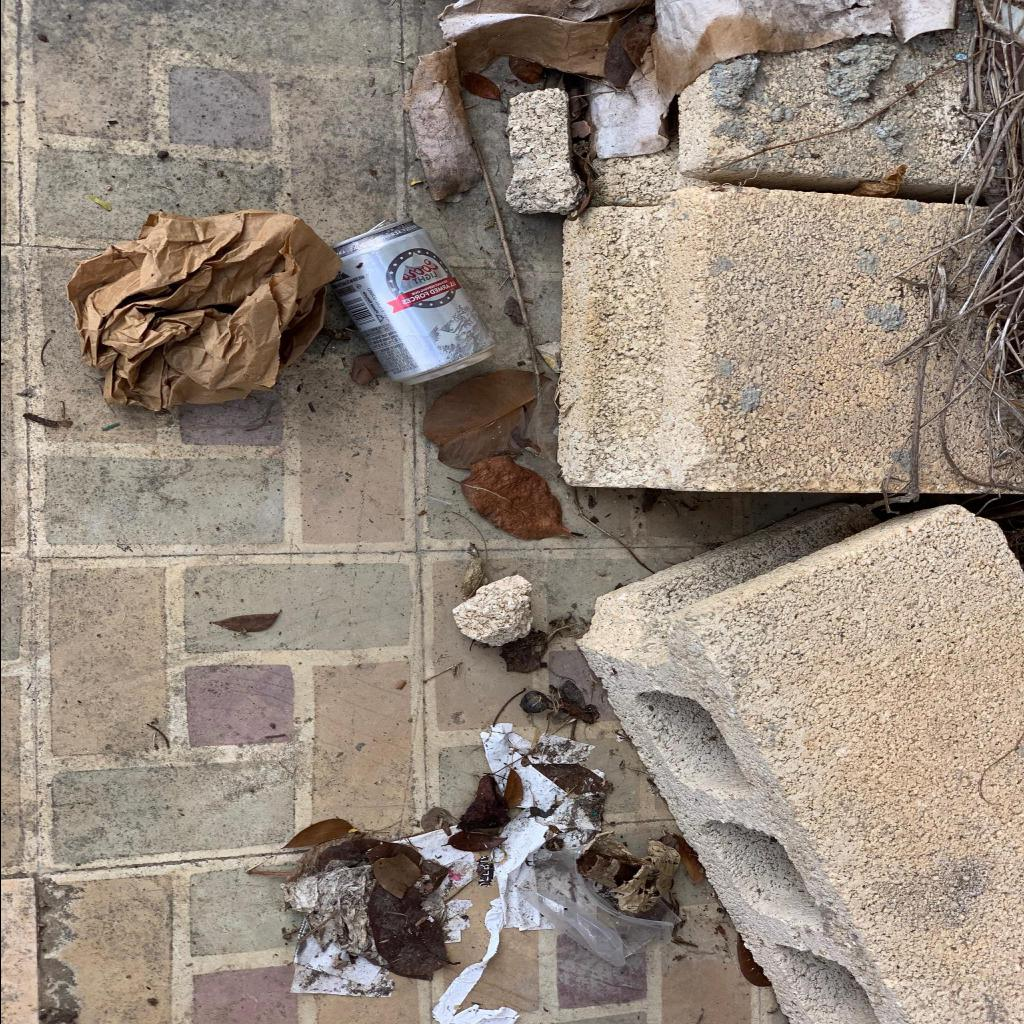Disposable plastic cup: (510, 844, 674, 966)
Drink can: (330, 220, 496, 387)
Normal paper: (430, 722, 604, 1024), (280, 825, 474, 997)
Paper bag: (64, 207, 342, 413)
Pop tab: (362, 219, 390, 235)
